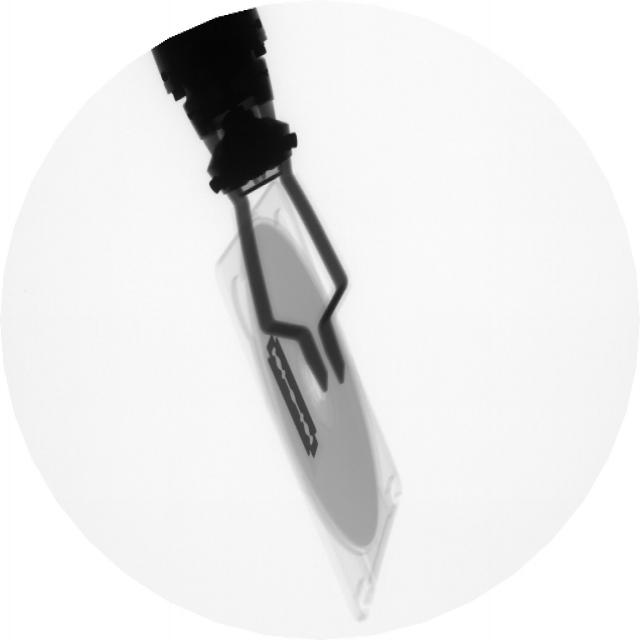BLADE: (263, 326, 325, 467)
